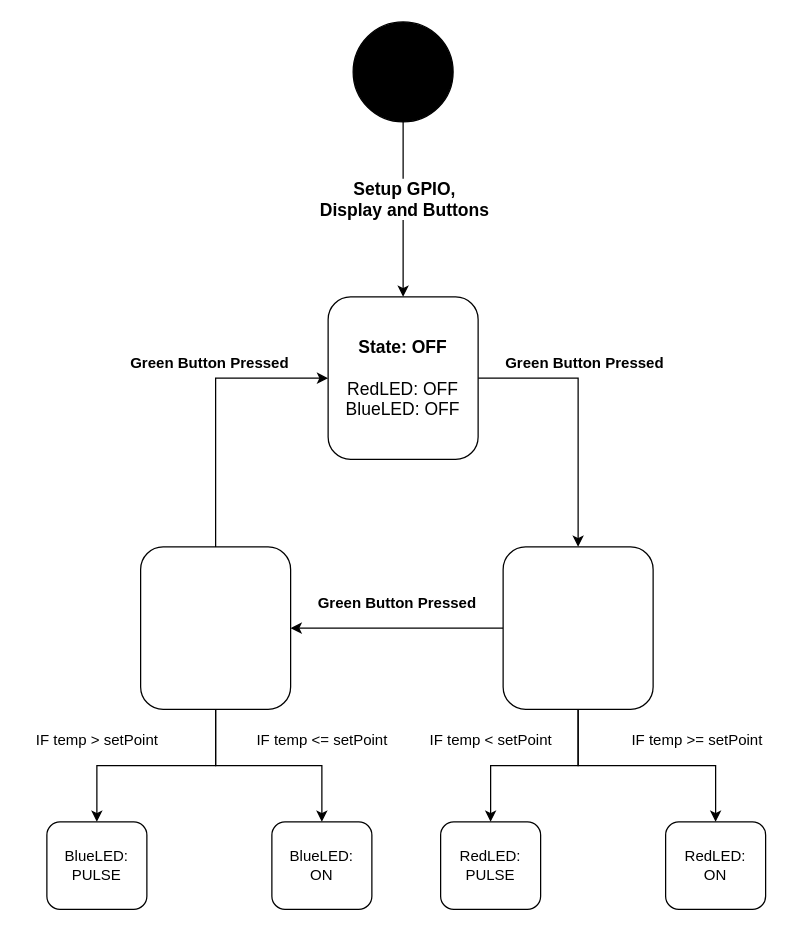
Image size: 799x931. Some labels were removed from this diagram. Here are the shapes that lost their labels. From the top down, the centre of each, then its label:
At [215,627]: "State: COOL RedLED: OFF".
At [577,627]: "State: HEAT BlueLED: OFF".
